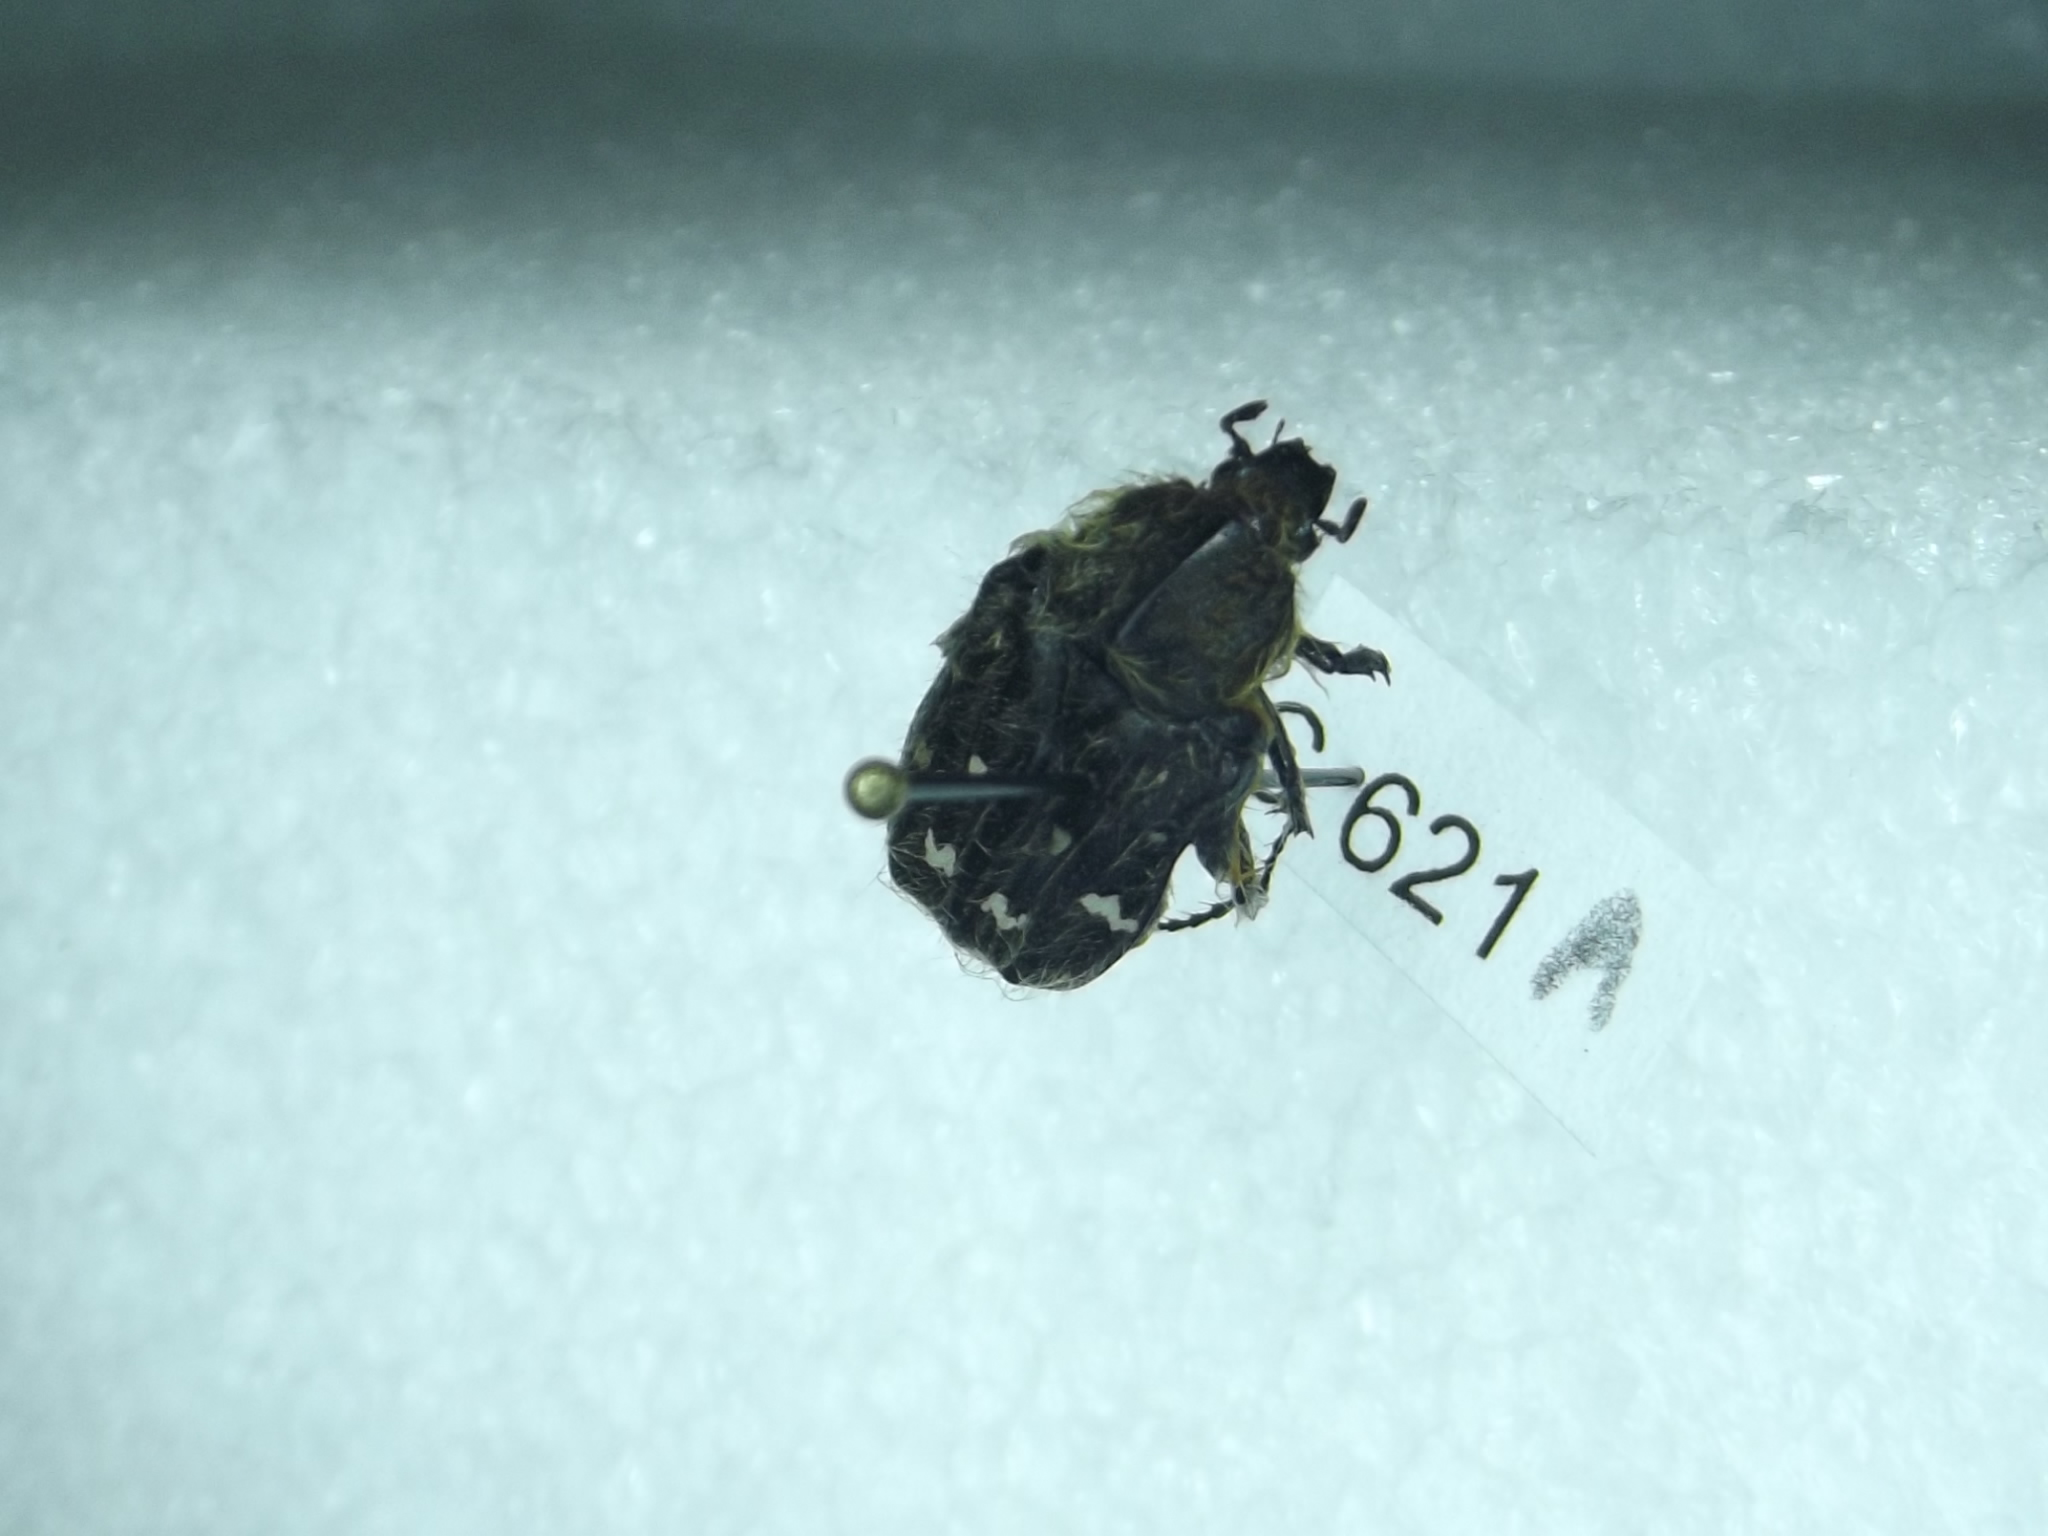Tropinota_senicula: (869, 378, 1406, 1005)
